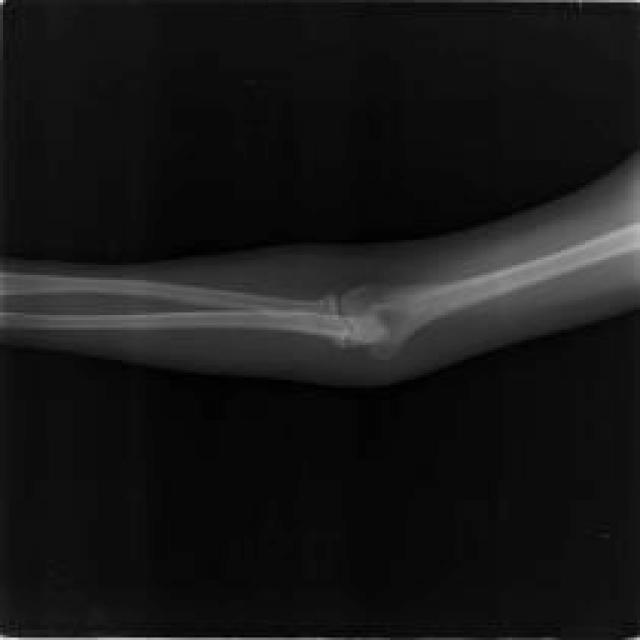normal: (0, 226, 637, 355)
